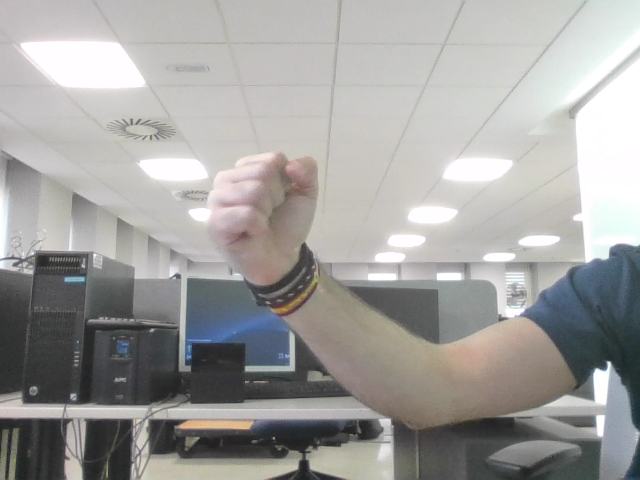Puño: (218, 159, 306, 228)
